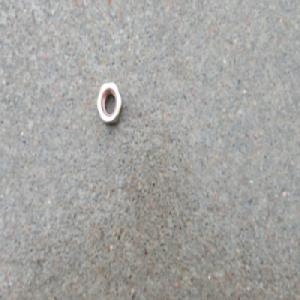Nut: (96, 81, 122, 128)
